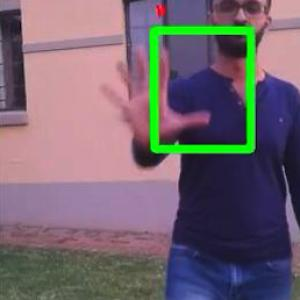follow_hand: (93, 38, 214, 155)
